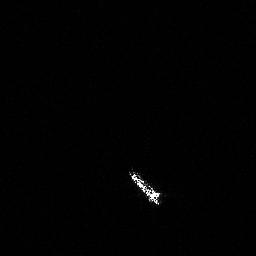ship: (124, 165, 164, 208)
